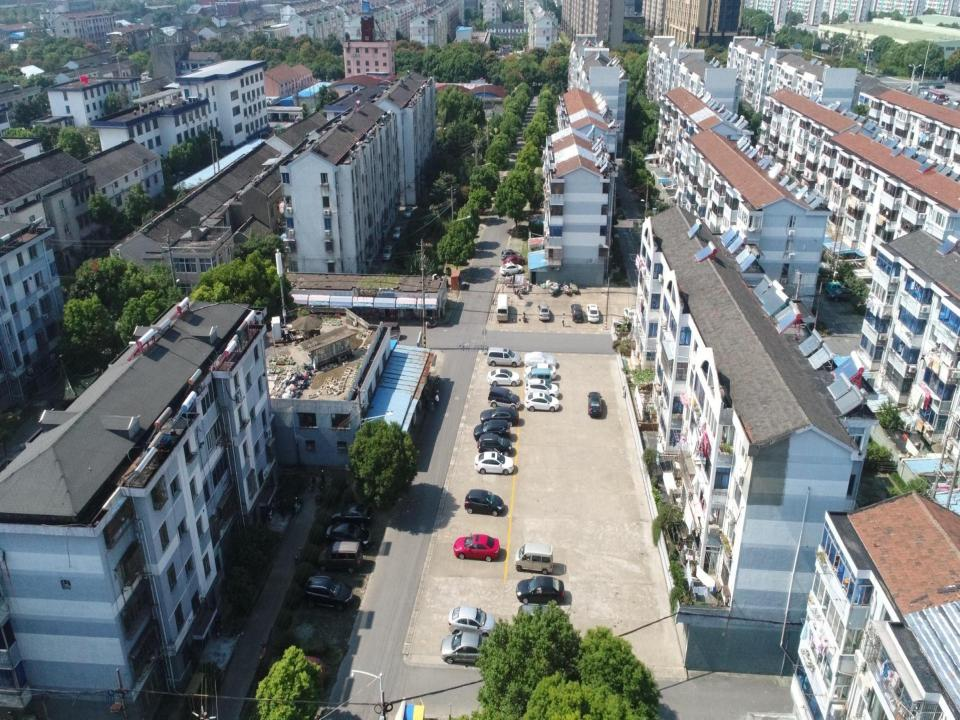bus: (925, 88, 945, 106)
car: (439, 632, 496, 668), (274, 653, 328, 689), (302, 575, 352, 611), (448, 604, 497, 636), (515, 573, 566, 603), (452, 532, 500, 563), (323, 520, 372, 550), (463, 486, 506, 518), (317, 541, 361, 572), (329, 501, 374, 529), (518, 602, 561, 630), (473, 452, 513, 477), (473, 418, 511, 444), (476, 433, 512, 457), (524, 392, 560, 413), (480, 406, 519, 425), (525, 377, 559, 398), (524, 352, 558, 369), (488, 369, 520, 387), (524, 363, 556, 381), (828, 288, 860, 302), (586, 391, 603, 415), (503, 254, 524, 269), (537, 303, 551, 325), (824, 280, 846, 294), (570, 303, 584, 323), (500, 263, 523, 275), (586, 304, 600, 322), (500, 248, 521, 260), (382, 245, 395, 261), (392, 225, 402, 240), (404, 204, 413, 218), (941, 94, 950, 100)
van: (513, 542, 554, 575), (488, 385, 521, 412), (486, 346, 522, 367), (524, 367, 552, 385), (496, 291, 510, 323)
